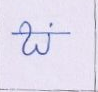anusvara: (49, 23, 53, 27)
